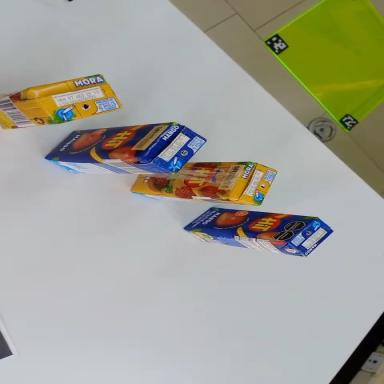HIT-MANGO: (44, 121, 207, 180), (183, 204, 333, 259)
HIT-MORA: (0, 69, 122, 136), (132, 161, 276, 205)
cara_F: (184, 205, 318, 245), (43, 122, 176, 159), (129, 161, 250, 198)
